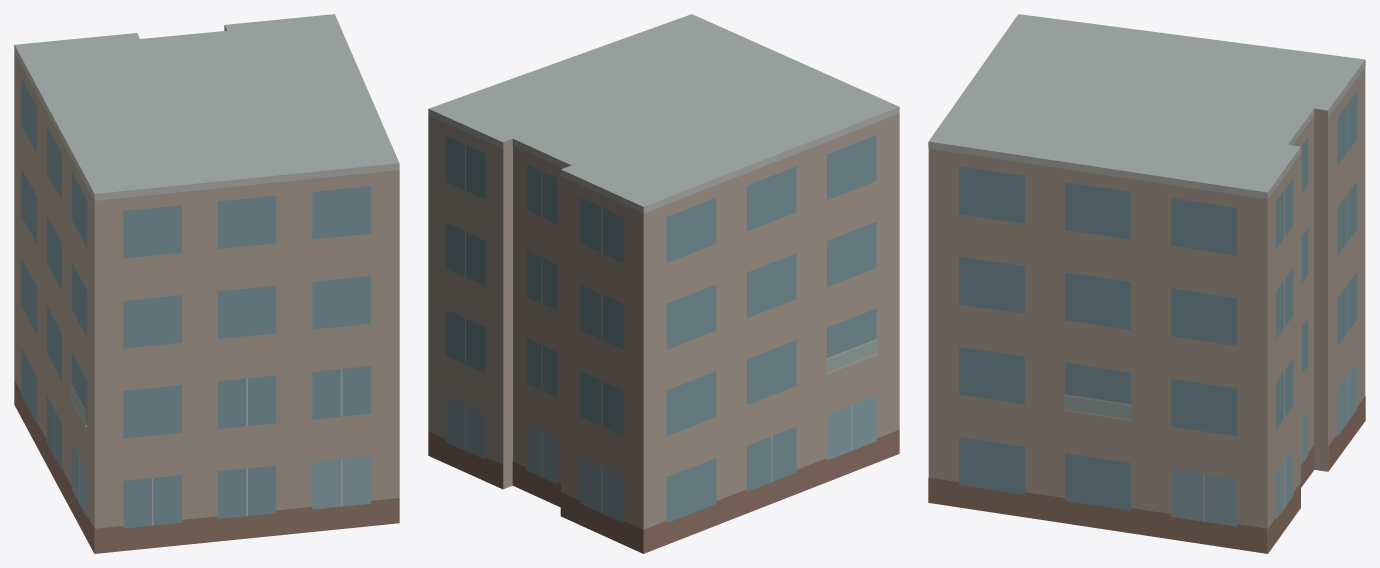
File: survey-upis-32885258.glb
3 renders of one model, left to right at view 1: azimuth 30°, elevation 25°; view 2: azimuth 150°, elevation 25°; view 3: azimuth 270°, elevation 25°, orthographic. The views are drawn at different scales.
Parts seen in each view (by area): view 1: survey-upis-32885258.tmp; view 2: survey-upis-32885258.tmp; view 3: survey-upis-32885258.tmp.
Part boxes in pixels (x1=…): survey-upis-32885258.tmp: x1=14, y1=14, x2=399, y2=553; survey-upis-32885258.tmp: x1=428, y1=14, x2=899, y2=553; survey-upis-32885258.tmp: x1=928, y1=14, x2=1365, y2=553.
Size of the model in its own units: 13.47 by 12.7 by 13.93.
